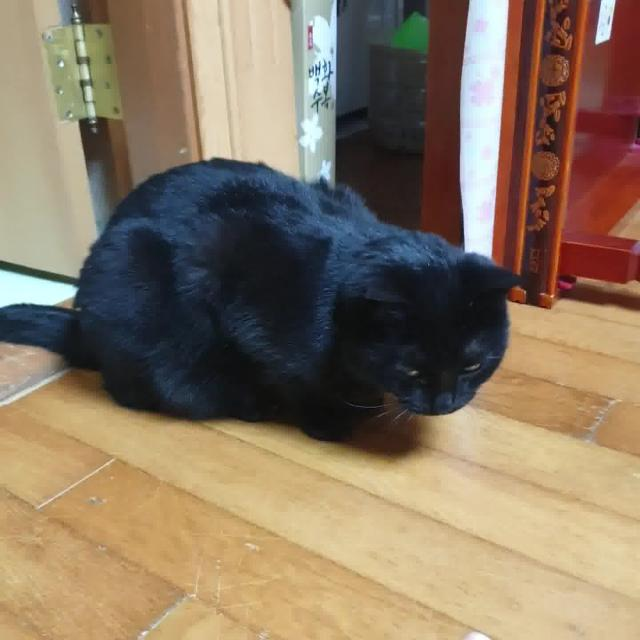cat: (0, 155, 530, 453)
